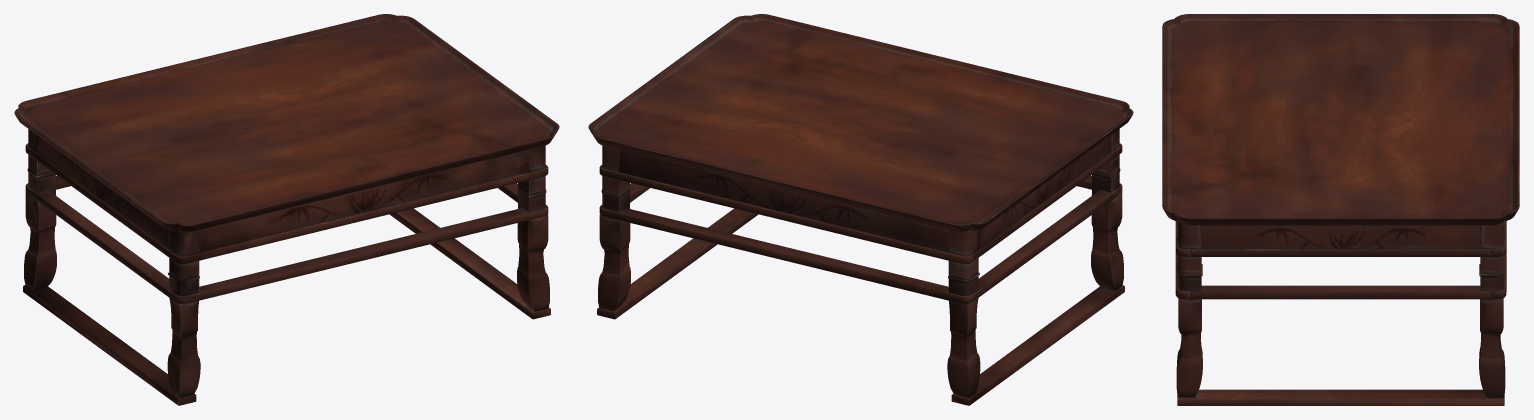
File: table.glb
The picture shows the model from 3 angles, left to right: view 1: azimuth 30°, elevation 25°; view 2: azimuth 150°, elevation 25°; view 3: azimuth 270°, elevation 25°; orthographic projection. The views are drawn at different scales.
Visible parts, largest first — view 1: SM_TongyeongTable_M_TongyeongTable_0; view 2: SM_TongyeongTable_M_TongyeongTable_0; view 3: SM_TongyeongTable_M_TongyeongTable_0.
Boxes of the visible parts, x1,y1,x2,y2 form: SM_TongyeongTable_M_TongyeongTable_0: [14, 14, 559, 405]; SM_TongyeongTable_M_TongyeongTable_0: [588, 14, 1133, 405]; SM_TongyeongTable_M_TongyeongTable_0: [1162, 14, 1519, 405].
Size of the model in its own units: 0.6102 by 0.27 by 0.45.
Materials: 1 (1 with a texture image).
